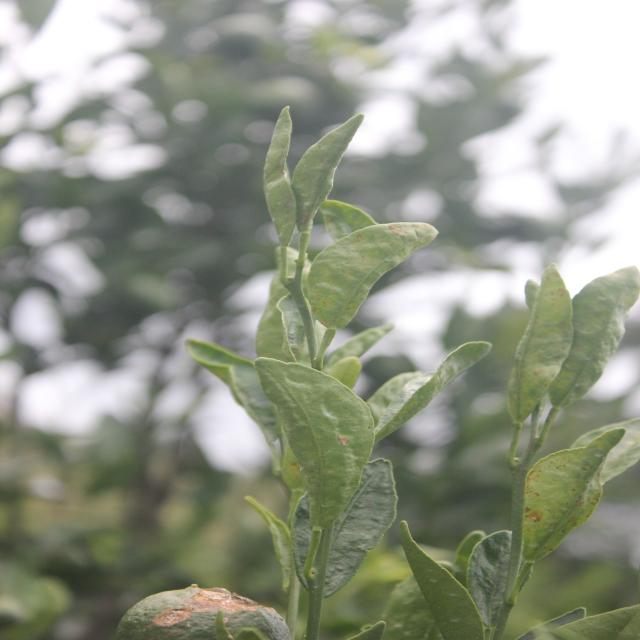canker: (524, 429, 625, 563), (284, 384, 370, 535), (310, 220, 428, 309), (518, 264, 576, 424)
